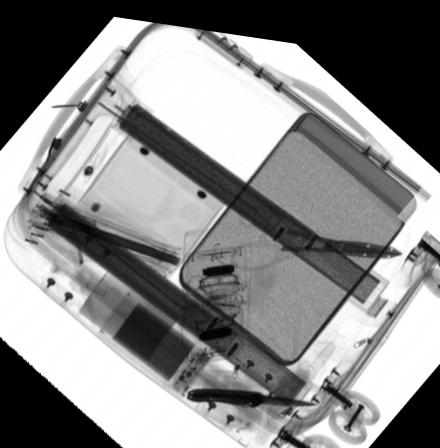Knife: (184, 383, 316, 403)
Powerbank: (93, 284, 219, 394)
Scissors: (227, 192, 403, 263)
